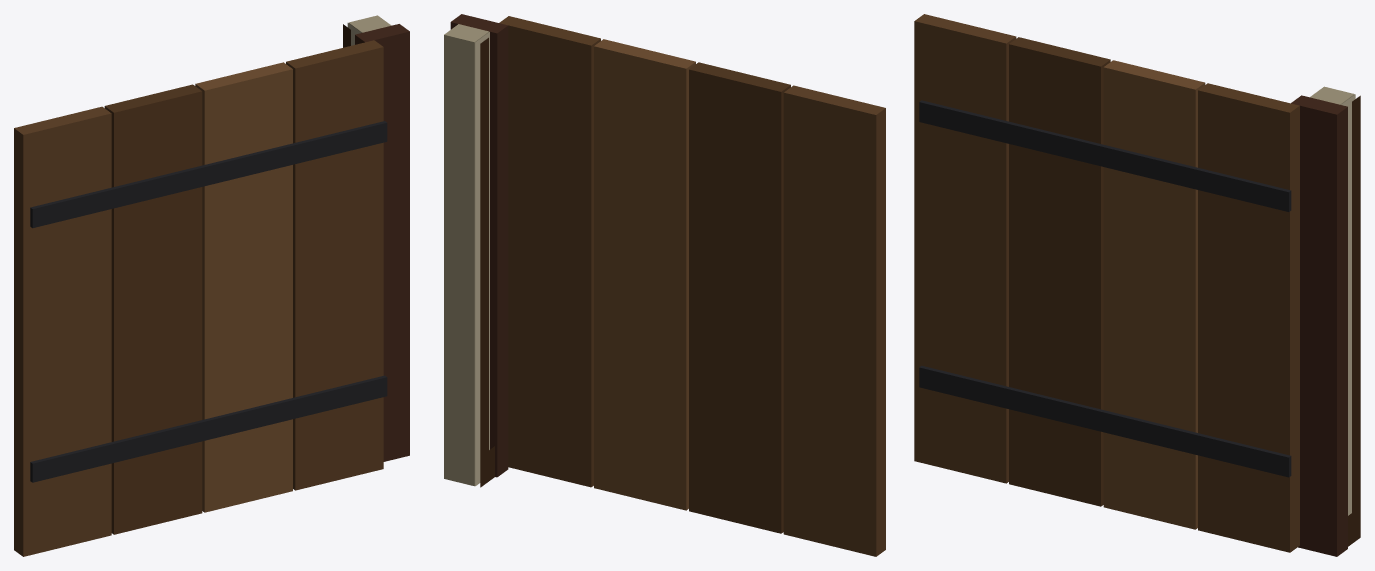
Rendered from wall-halftimber-door-open-low-l.glb.
The picture shows the model from 3 angles, left to right: view 1: azimuth 30°, elevation 25°; view 2: azimuth 150°, elevation 25°; view 3: azimuth 330°, elevation 25°; orthographic projection. The views are drawn at different scales.
Parts seen in each view (by area): view 1: wall-halftimber-door-open-low-l; view 2: wall-halftimber-door-open-low-l; view 3: wall-halftimber-door-open-low-l.
Part boxes in pixels (box(x1,y1,x2,y2)): wall-halftimber-door-open-low-l: box(14, 15, 409, 556); wall-halftimber-door-open-low-l: box(444, 14, 885, 556); wall-halftimber-door-open-low-l: box(914, 14, 1360, 556).
Size of the model in its own units: 0.977 by 1 by 0.155.
